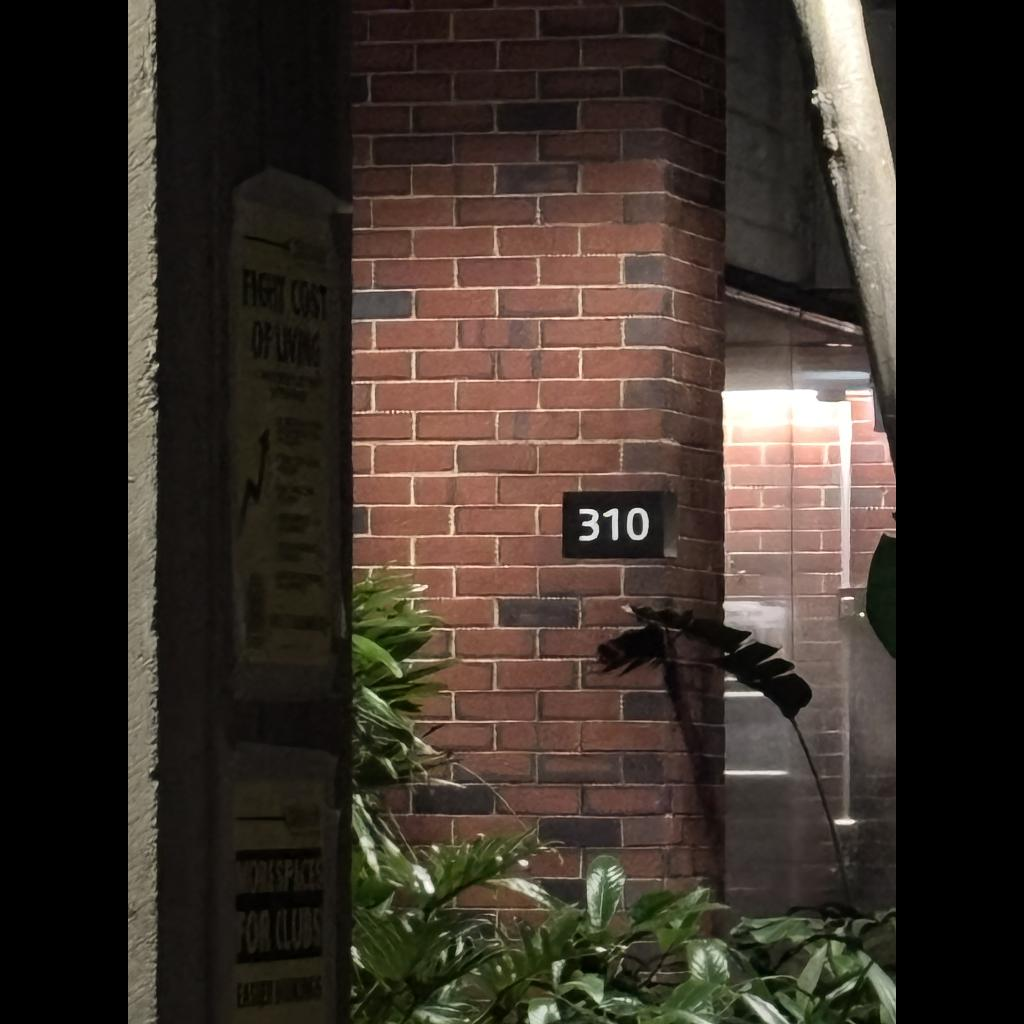BuildingCodes: (574, 504, 654, 544)
